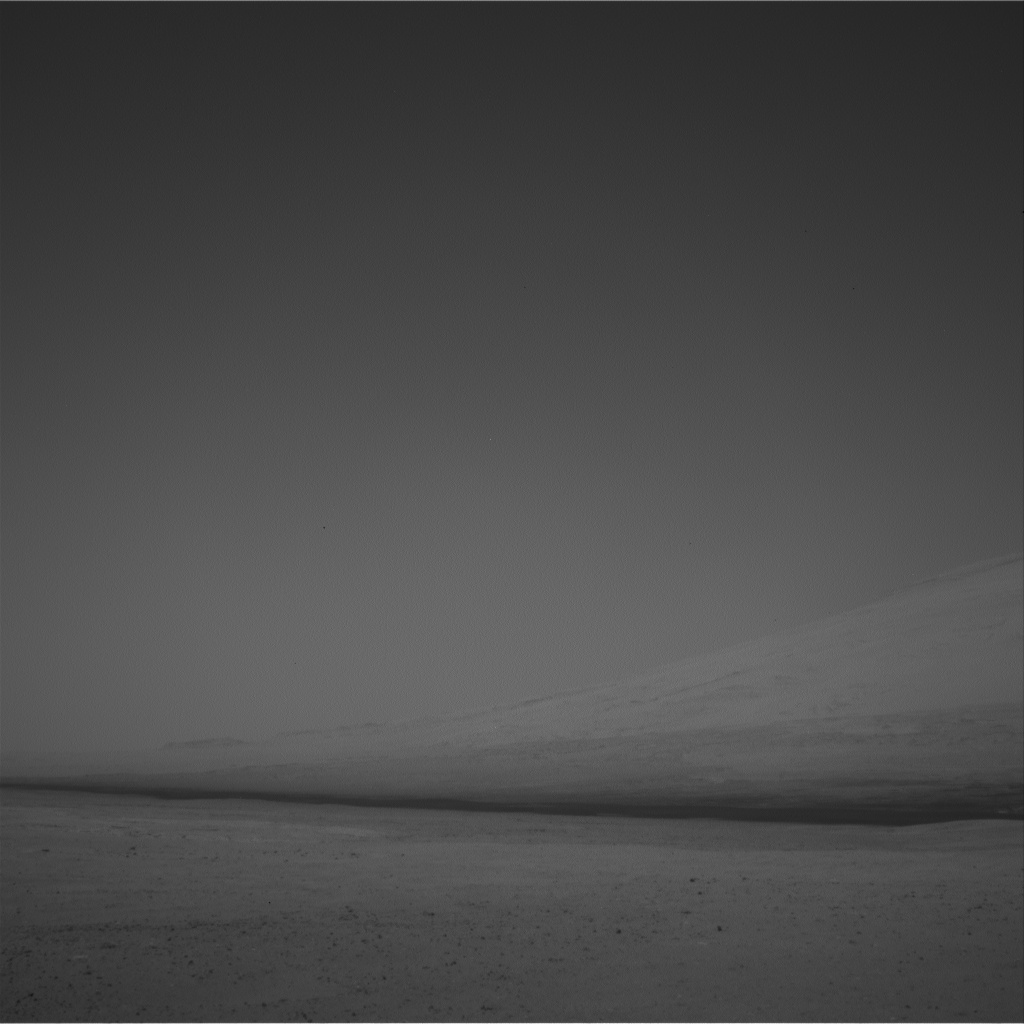soil: (4, 954, 1020, 1018)
